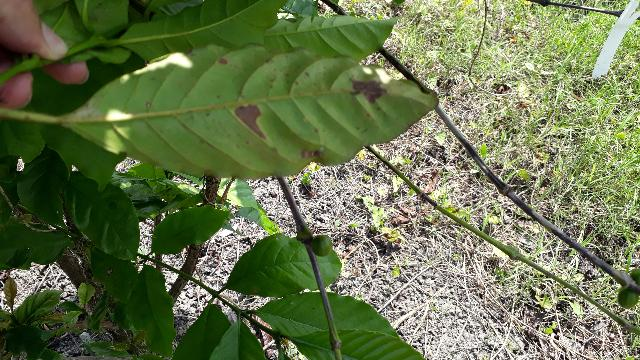red_spider_mite: (202, 180, 576, 317)
